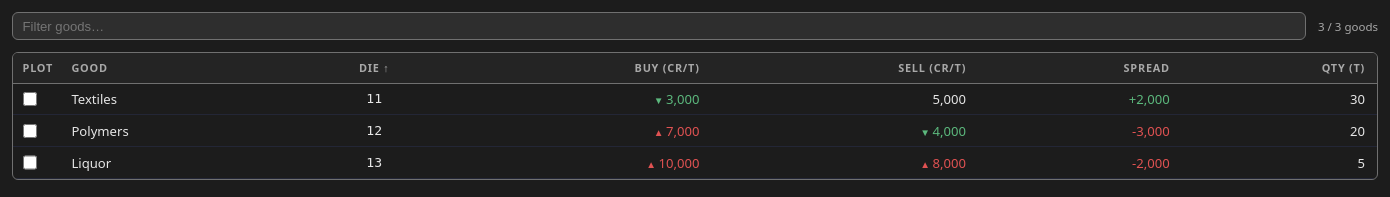
Test: MarketTable — filter › filters rows by good name (case-insensitive)
This screenshot has width=1390, height=197.
In the search field with class "market-search": (659, 26) [12, 12, 1306, 40], type "tex"
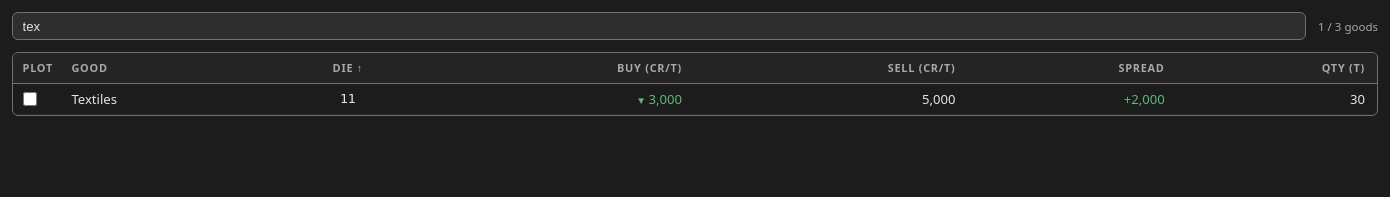
Expected: the button with class "market-row" shows "Textiles", [13, 83, 1377, 115]
Now the number of buttons with class "market-row" is 1, box [13, 83, 1377, 115]
